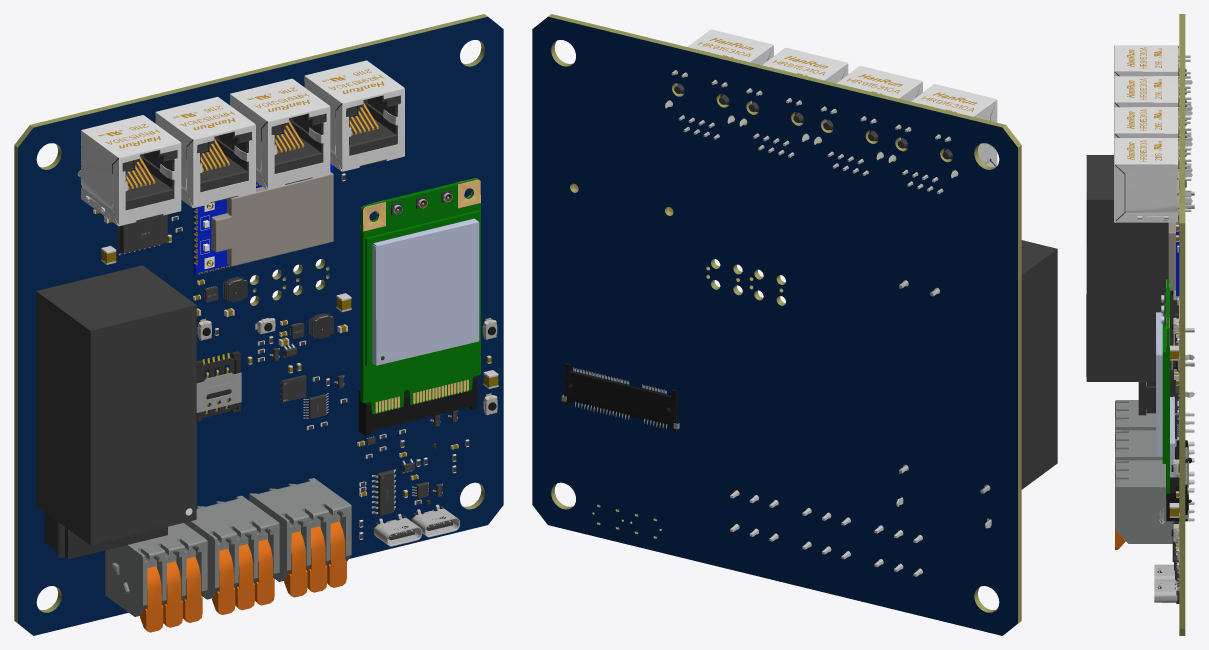
Rendered from modem-height-datum-before45.obj.
3 views of the same model, side by side, from view 1: azimuth 30°, elevation 25°; view 2: azimuth 150°, elevation 25°; view 3: azimuth 270°, elevation 25° (orthographic). The views are drawn at different scales.
Size of the model in its own units: 124 by 124 by 28.06.
